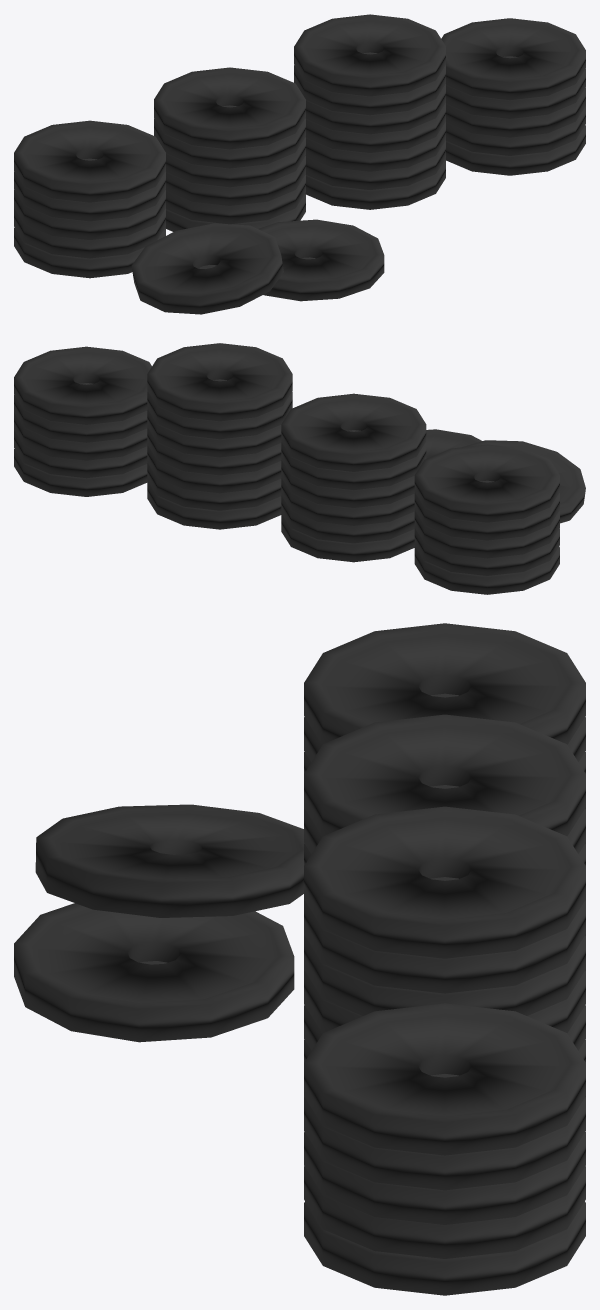
File: gym_decoration_3.glb
3 renders of one model, top to bottom at view 1: azimuth 30°, elevation 25°; view 2: azimuth 150°, elevation 25°; view 3: azimuth 270°, elevation 25°, orthographic. The views are drawn at different scales.
Visible parts, largest first — view 1: GymEquipments_20_GymEquipments_SG_0; view 2: GymEquipments_20_GymEquipments_SG_0; view 3: GymEquipments_20_GymEquipments_SG_0.
Part boxes in pixels (x1,y1,x2,y2): GymEquipments_20_GymEquipments_SG_0: (14,14,585,314); GymEquipments_20_GymEquipments_SG_0: (14,343,585,594); GymEquipments_20_GymEquipments_SG_0: (14,623,585,1295).
Size of the model in its own units: 1.1 by 0.2495 by 0.5314.
1 material, 1 textured.
